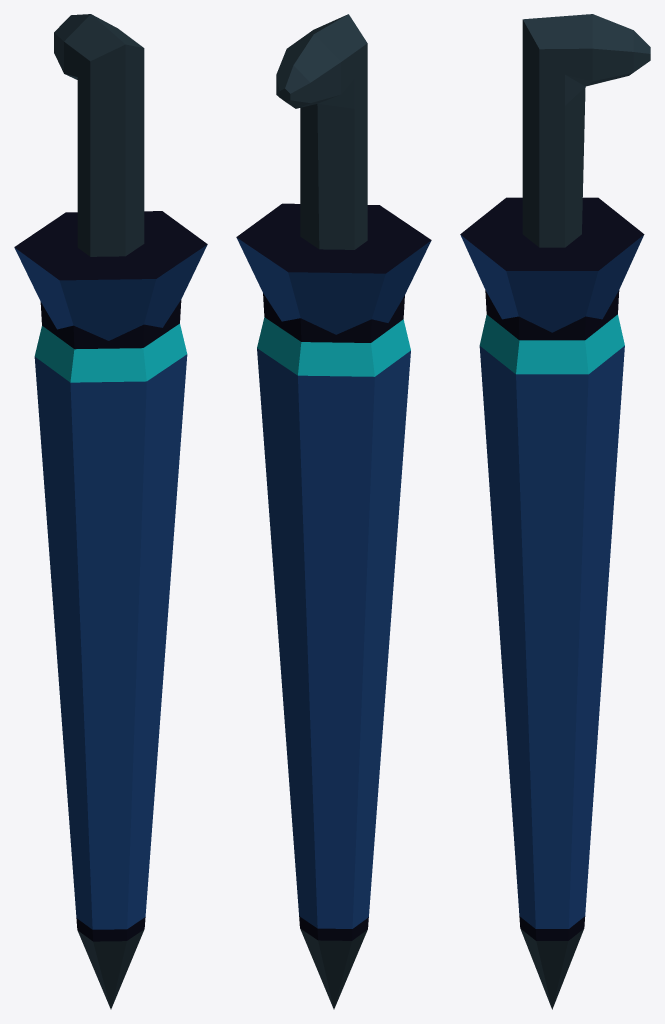
The model's file is Prop_Umbrella.fbx.
3 views of the same model, side by side, from view 1: azimuth 30°, elevation 25°; view 2: azimuth 150°, elevation 25°; view 3: azimuth 270°, elevation 25° (orthographic).
Visible parts, largest first — view 1: Cone; view 2: Cone; view 3: Cone.
Boxes of the visible parts, x1,y1,x2,y2 form: Cone: (14,14,207,1009); Cone: (236,14,431,1009); Cone: (460,14,650,1009).
Bounding box in the file's own units: 10.37 × 65.58 × 11.38.
